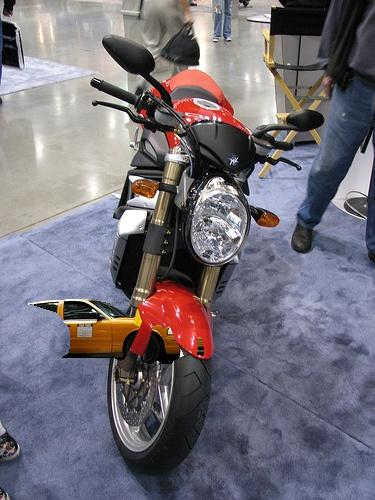tampered: (29, 300, 204, 364)
